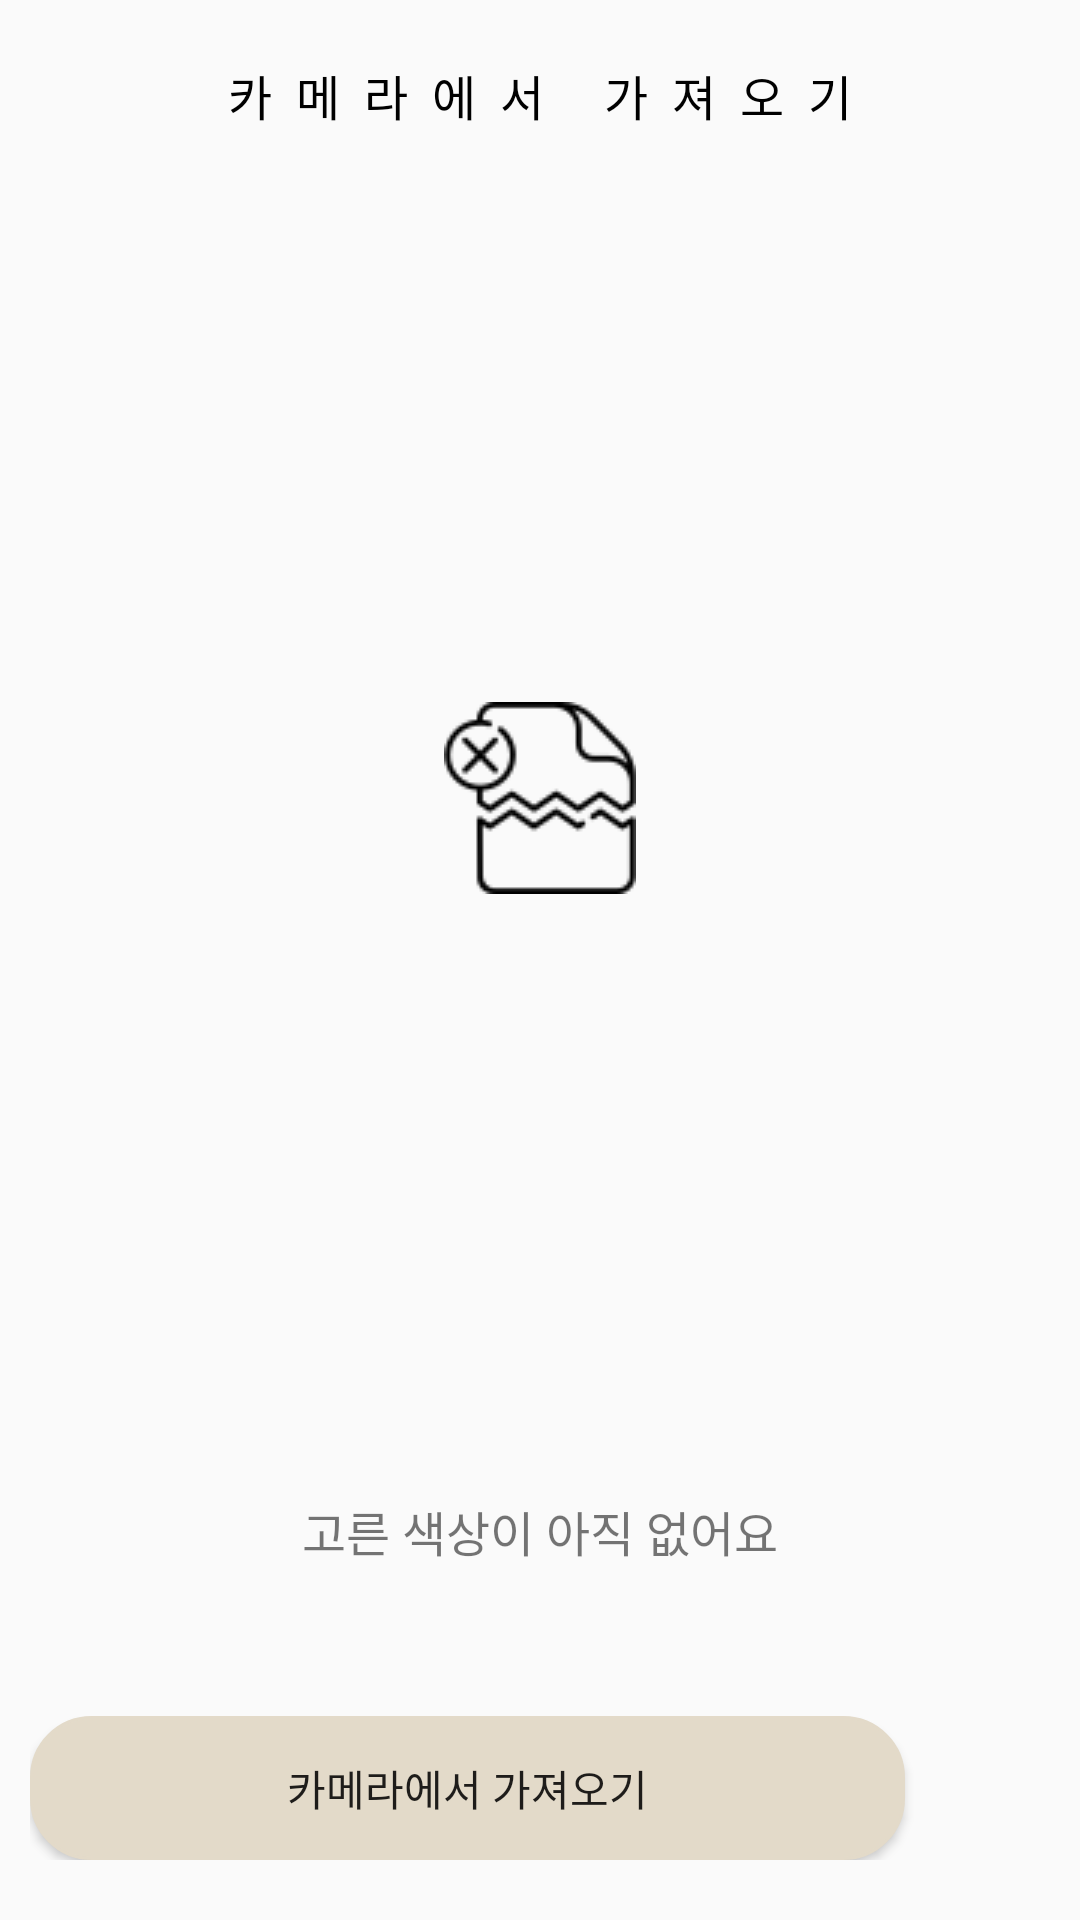

Locate icon controls on the screen. Image size 1080 x 1920, boxes as rect(x1, y1, x2, y2).
broken: rect(444, 702, 636, 894)
